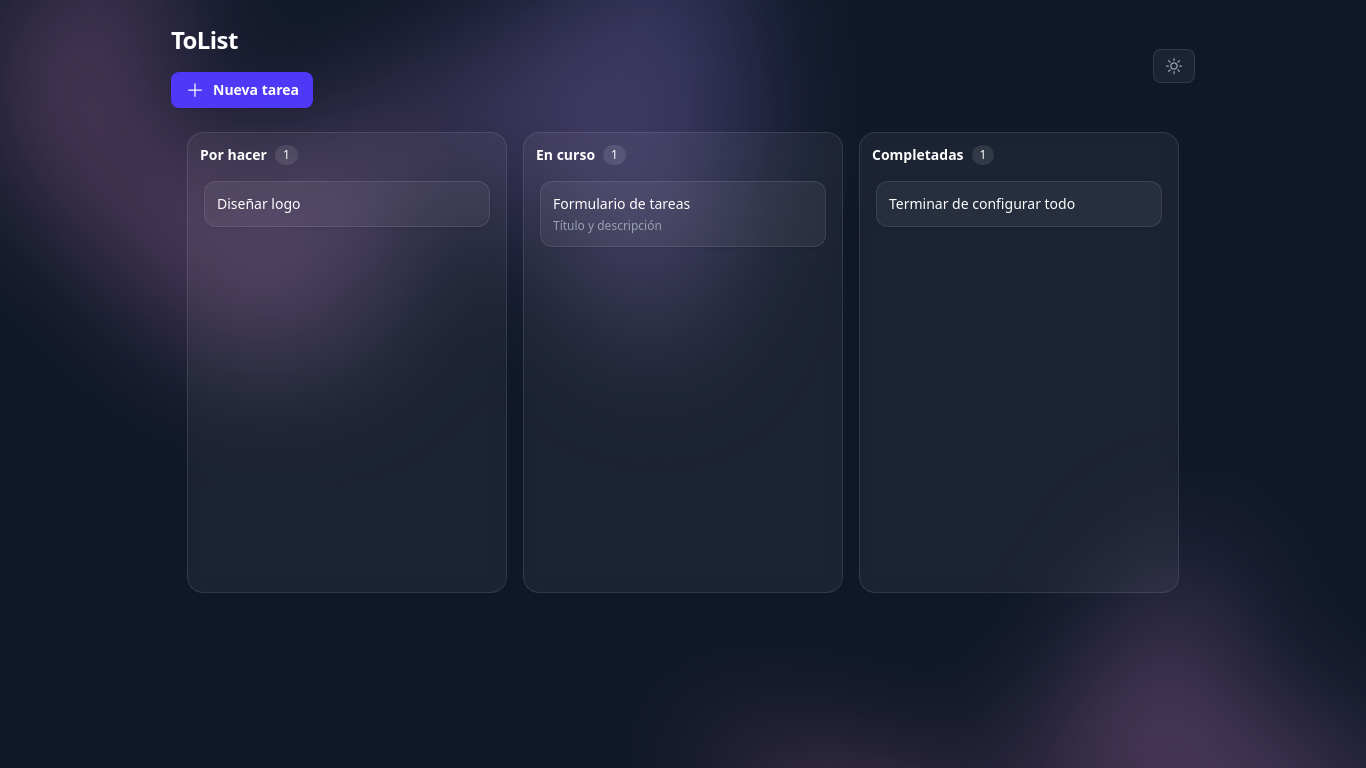
App main flows › creates a new task into Por hacer and persists to localStorage
Click the button "Nueva tarea" at x=242, y=90, box x1=171 y1=72 x2=313 y2=108
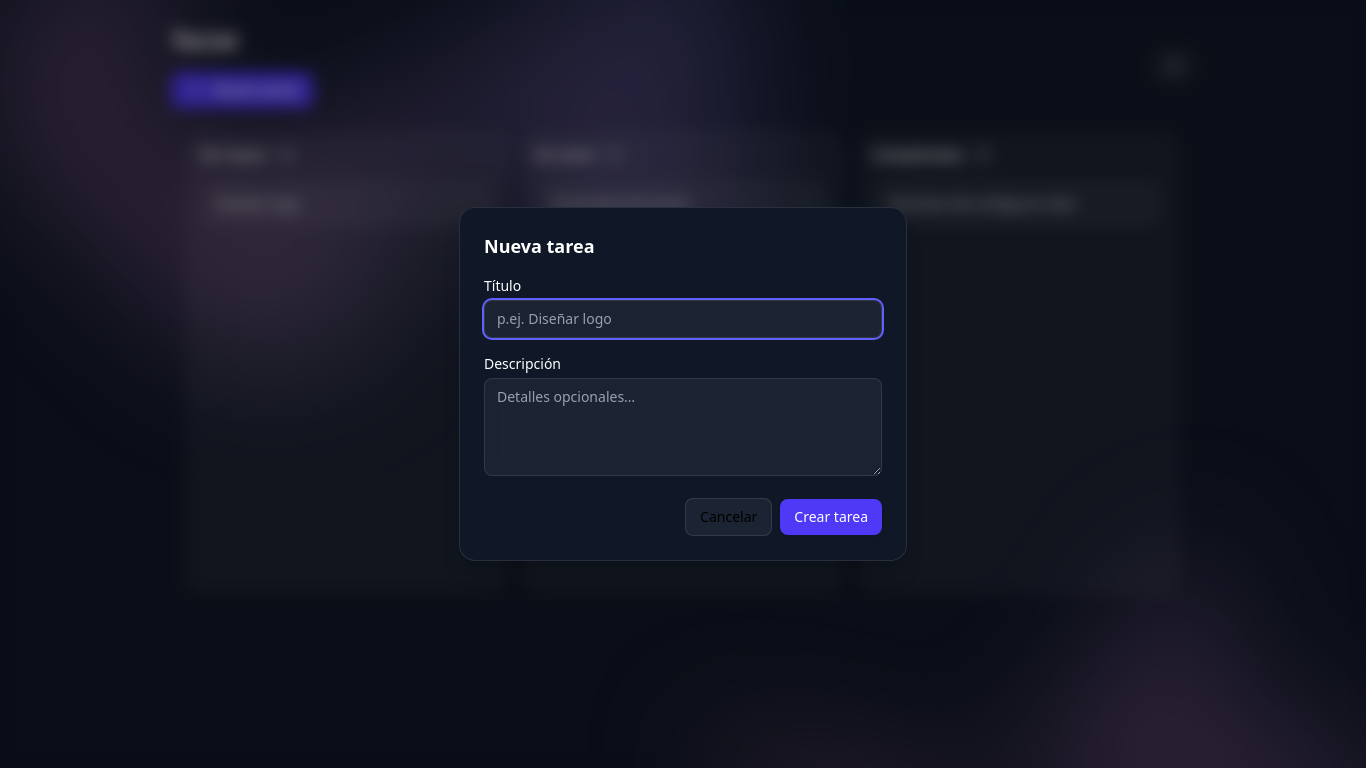
Type "Escribir documentación" into the field labelled "Título" at x=683, y=319, box x1=484 y1=300 x2=882 y2=338
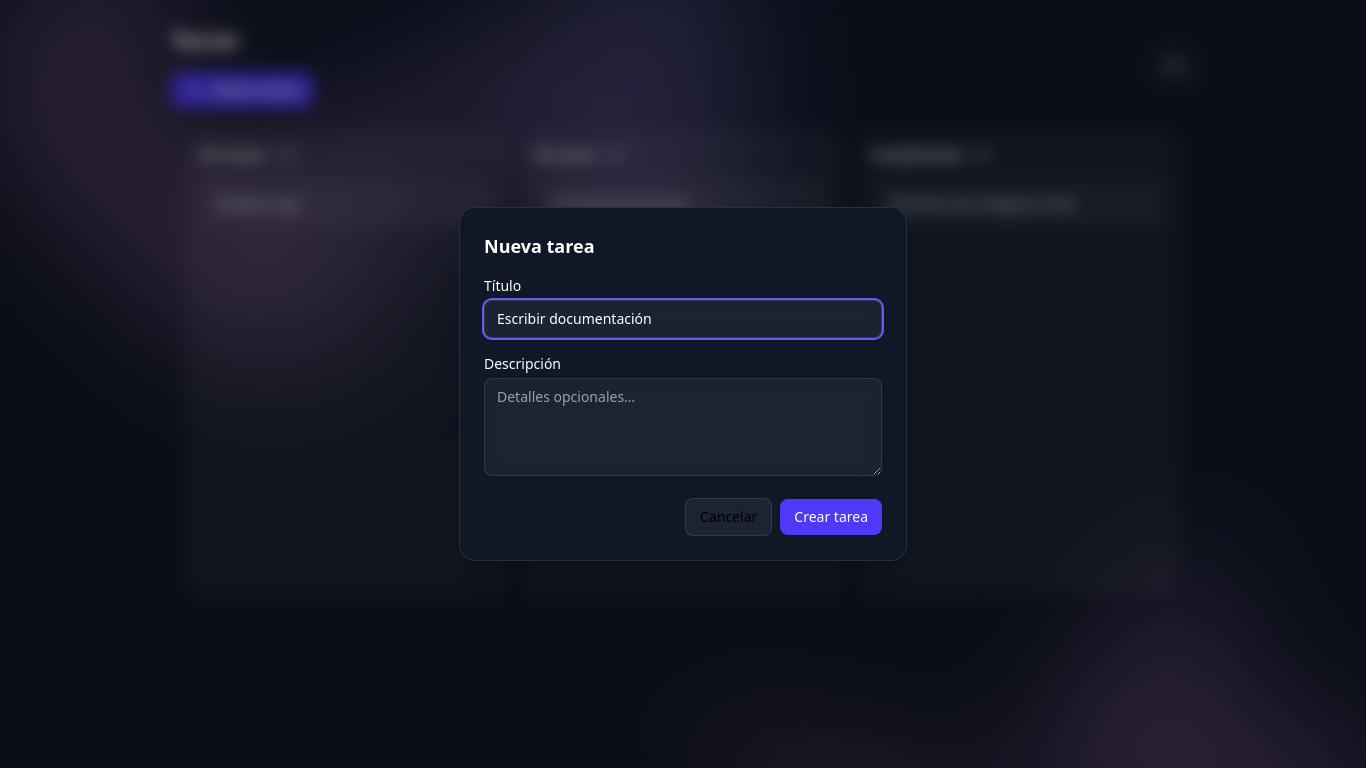
Type "Agregar README y guías" into the text box labelled "Descripción" at x=683, y=427, box x1=484 y1=378 x2=882 y2=476
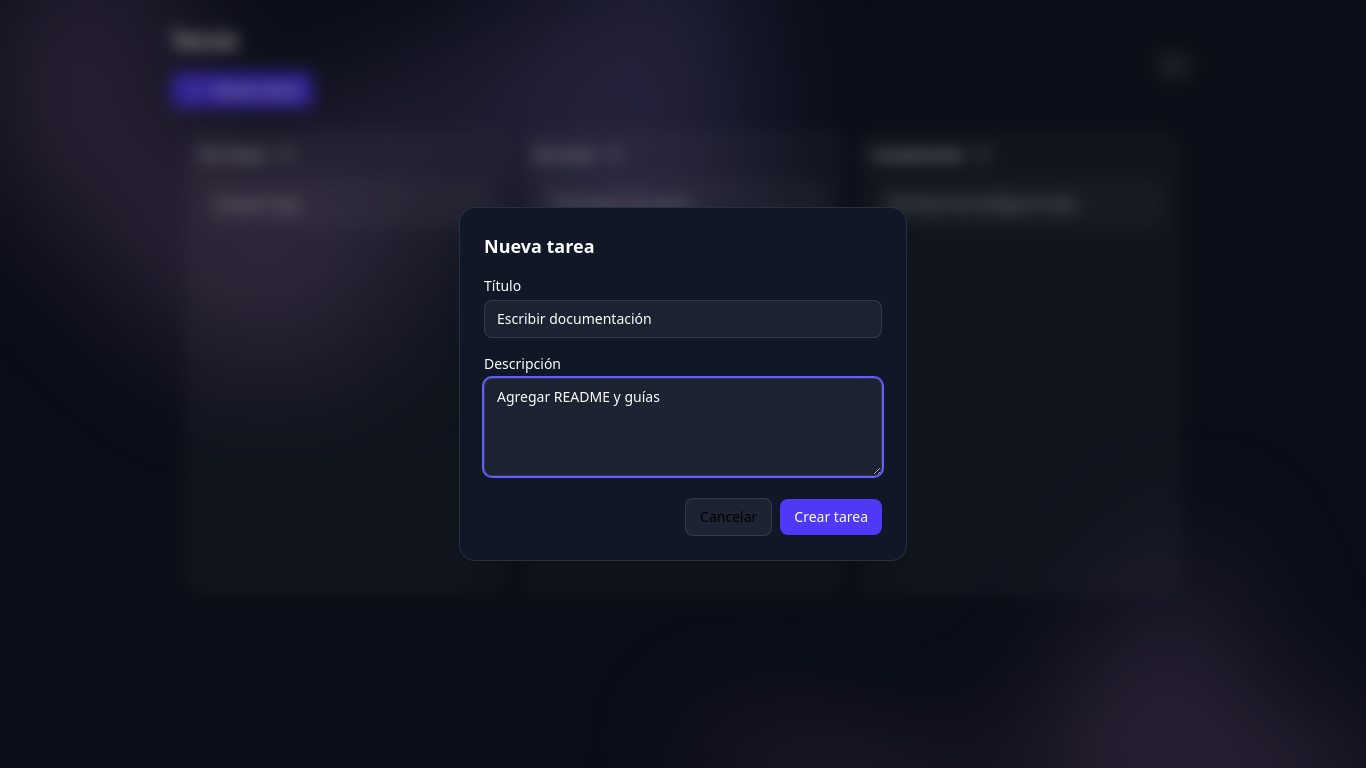
Click the button "Crear tarea" at x=831, y=517, box x1=780 y1=499 x2=882 y2=535
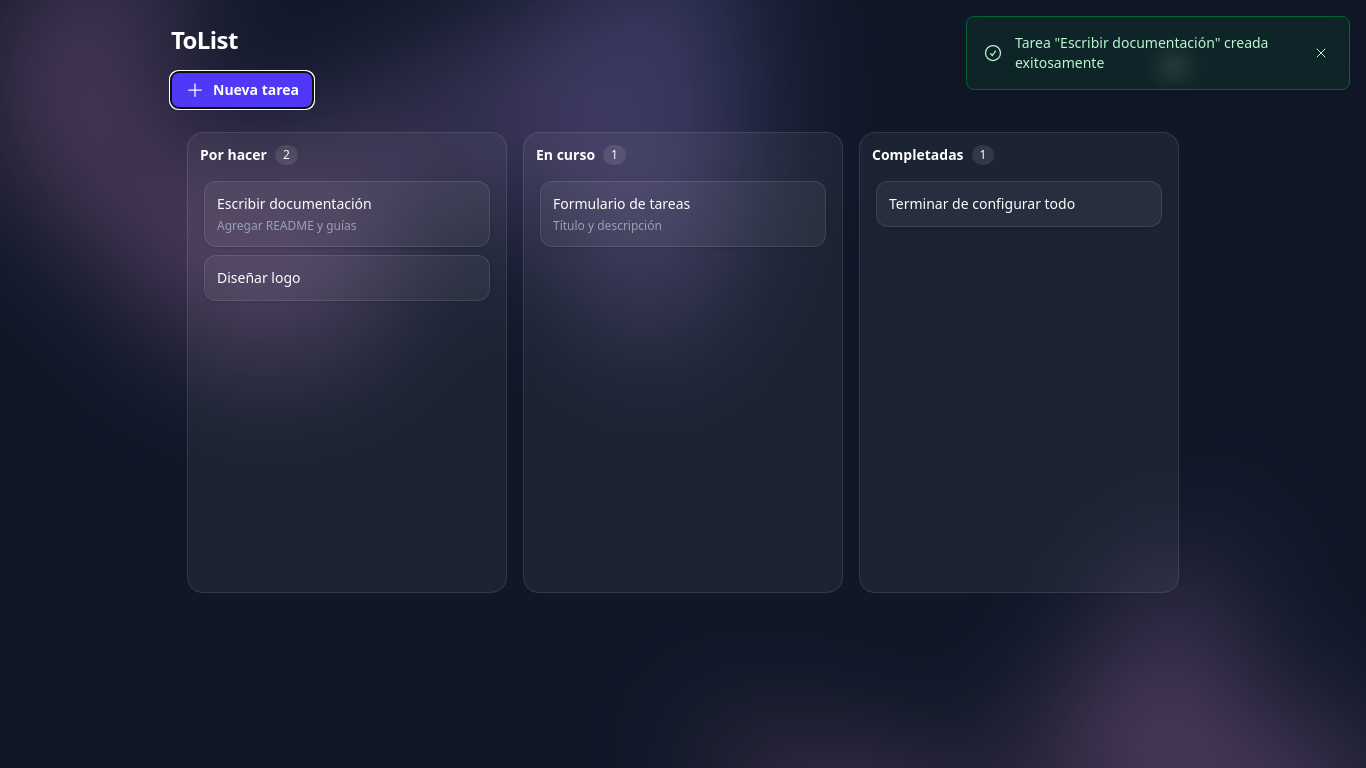
Expected: the text "Escribir documentación" is shown, x1=217 y1=194 x2=372 y2=213
